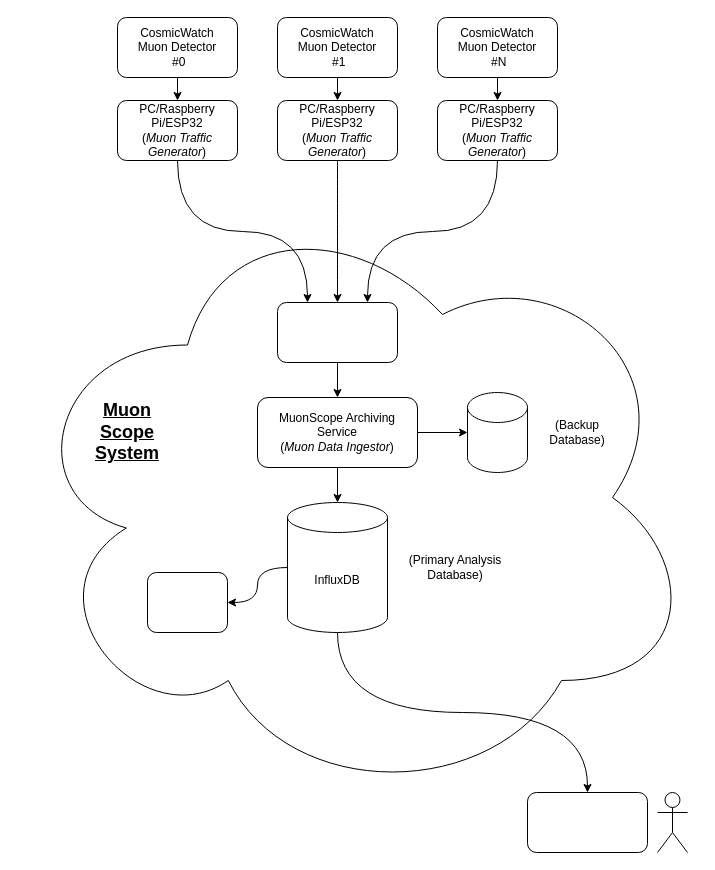
This 715x870 diagram has some shape labels left out. Each missing label, with the centre of its shape:
DB Monitoring (Grafana): the point at 187,602
MQTT Broker ( Mosquitto ): the point at 337,332
Science User Access: the point at 587,822
TinyFlux: the point at 497,432
